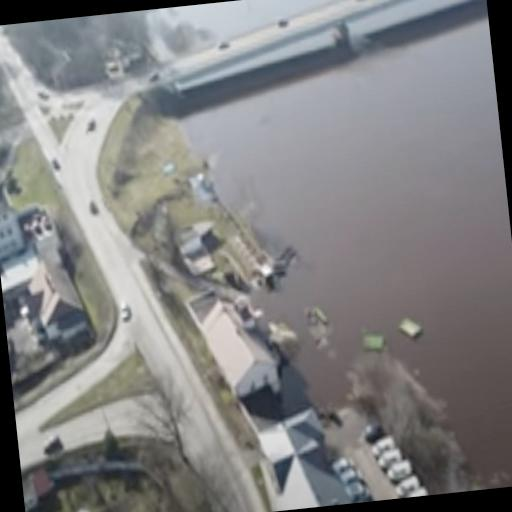flood: (181, 0, 512, 488), (173, 0, 327, 40)
house: (254, 401, 360, 512), (198, 293, 283, 407), (27, 254, 82, 328), (0, 156, 26, 269)
